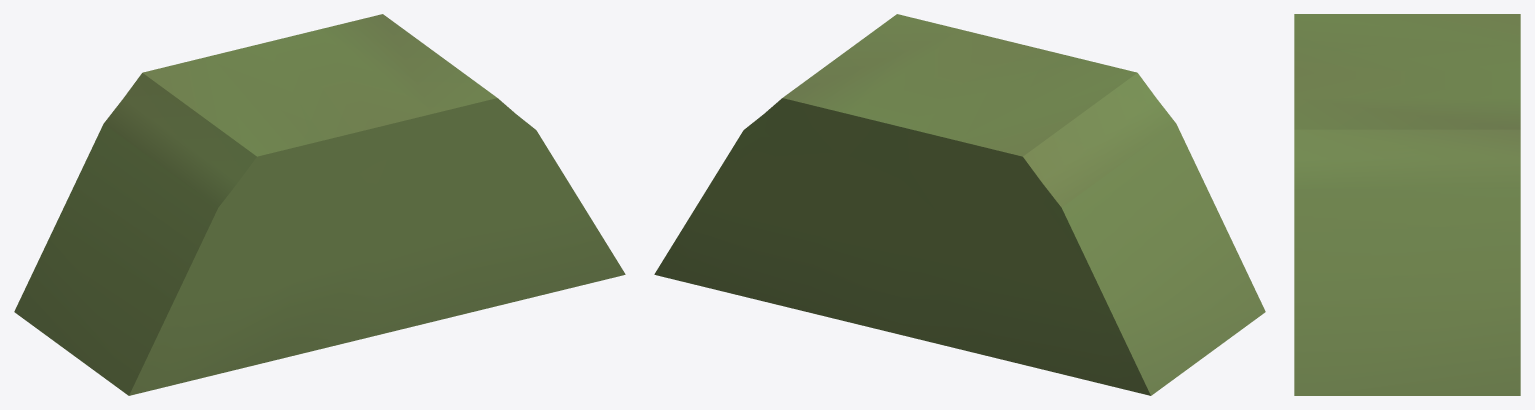
Rendered from log_tunnel_cap.glb.
3 views of the same model, side by side, from view 1: azimuth 30°, elevation 25°; view 2: azimuth 150°, elevation 25°; view 3: azimuth 270°, elevation 25° (orthographic).
Visible parts, largest first — view 1: log_tunnel_cap; view 2: log_tunnel_cap; view 3: log_tunnel_cap.
Part boxes in pixels (x1=…): log_tunnel_cap: x1=14, y1=14, x2=625, y2=395; log_tunnel_cap: x1=654, y1=14, x2=1265, y2=395; log_tunnel_cap: x1=1294, y1=14, x2=1520, y2=395.
Size of the model in its own units: 2.5 by 1 by 1.
